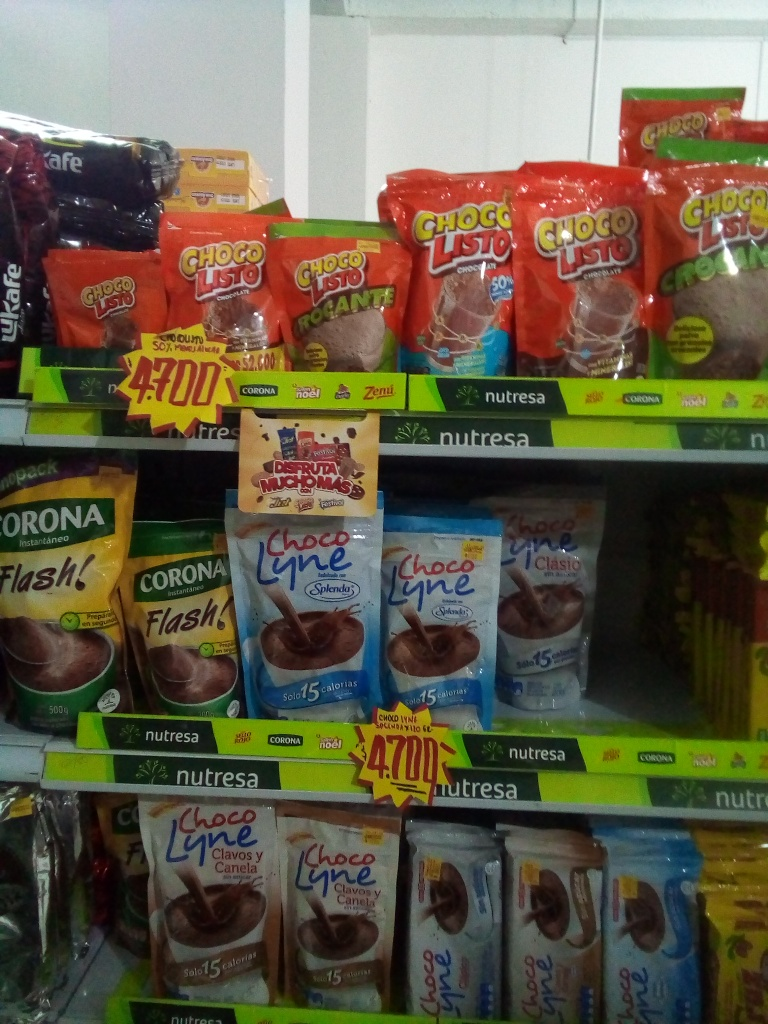COL0170102DYP10000: (263, 219, 411, 380)
COL0170102DYP25000: (646, 127, 768, 374)
COL0170103DYP20000: (507, 155, 653, 376)
COL0170103SOB02000: (49, 240, 167, 366)
COL0170104DYP20000: (394, 165, 513, 374)
